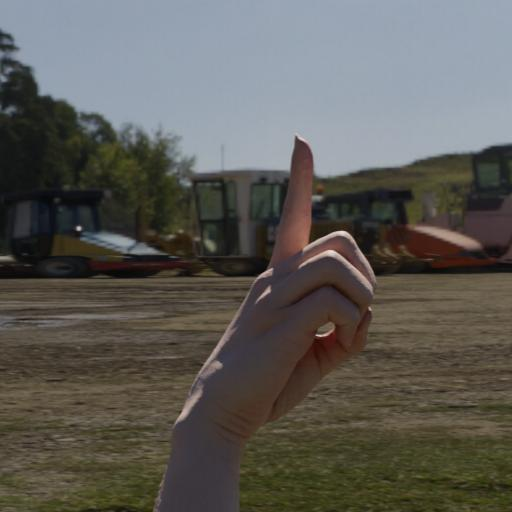D: (182, 123, 418, 444)
